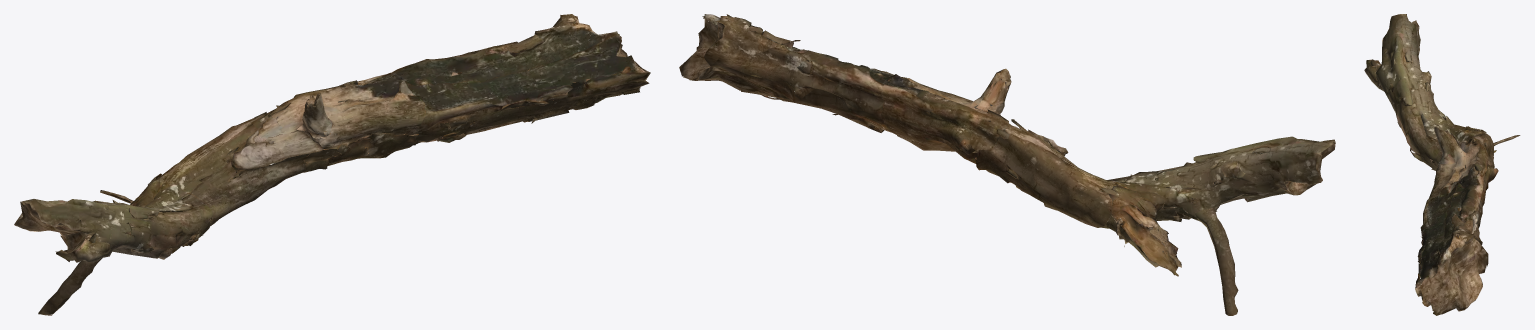
The model's file is dead_tree_trunk_02.glb.
3 renders of one model, left to right at view 1: azimuth 30°, elevation 25°; view 2: azimuth 150°, elevation 25°; view 3: azimuth 270°, elevation 25°, orthographic. The views are drawn at different scales.
Parts seen in each view (by area): view 1: dead_tree_trunk_02; view 2: dead_tree_trunk_02; view 3: dead_tree_trunk_02.
Part boxes in pixels (box(x1,y1,x2,y2)): dead_tree_trunk_02: box(14, 14, 650, 315); dead_tree_trunk_02: box(679, 14, 1335, 315); dead_tree_trunk_02: box(1364, 14, 1520, 315).
Size of the model in its own units: 4.05 by 1.06 by 1.05.
Materials: 1 (1 with a texture image).
